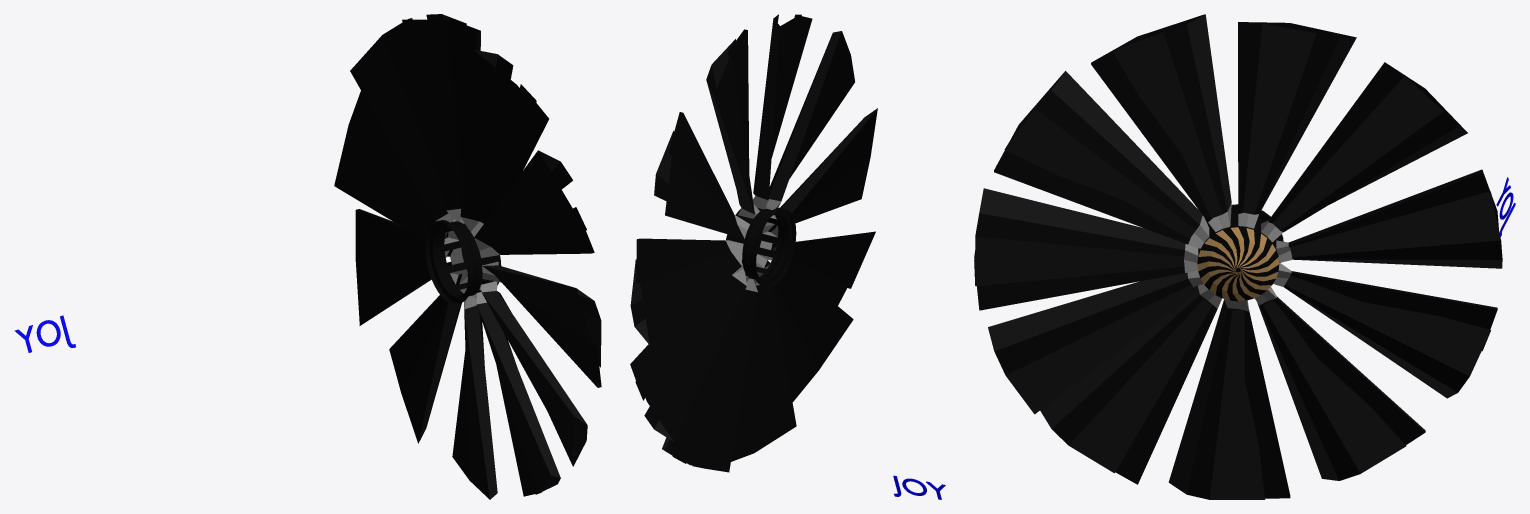
The picture shows the model from 3 angles, left to right: view 1: azimuth 30°, elevation 25°; view 2: azimuth 150°, elevation 25°; view 3: azimuth 270°, elevation 25°; orthographic projection. The views are drawn at different scales.
Parts seen in each view (by area): view 1: Cylinder.001; view 2: Cylinder.001, Text_Mesh; view 3: Cylinder.001.
Part boxes in pixels (x1,y1,x2,y2): Cylinder.001: (334,14,601,499); Cylinder.001: (630,14,877,472); Text_Mesh: (893,475,945,499); Cylinder.001: (974,14,1502,499).
Bounding box in the file's own units: 1.32 × 1.6 × 1.64.
